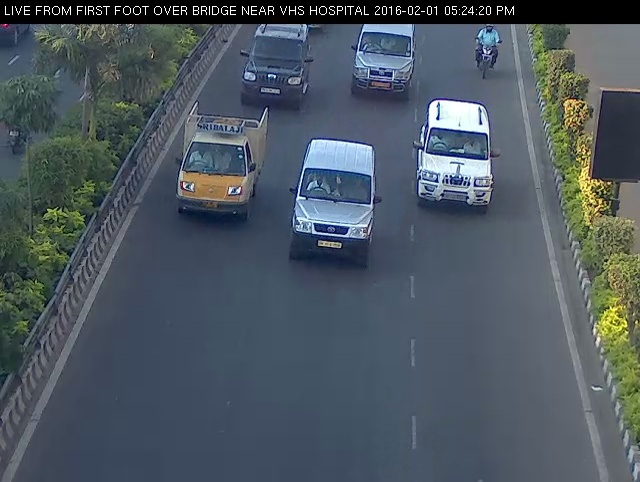Auto: (167, 96, 272, 233)
Car: (281, 130, 387, 278), (407, 93, 509, 220), (238, 15, 317, 112), (341, 20, 424, 101)
Person: (469, 7, 506, 87)
